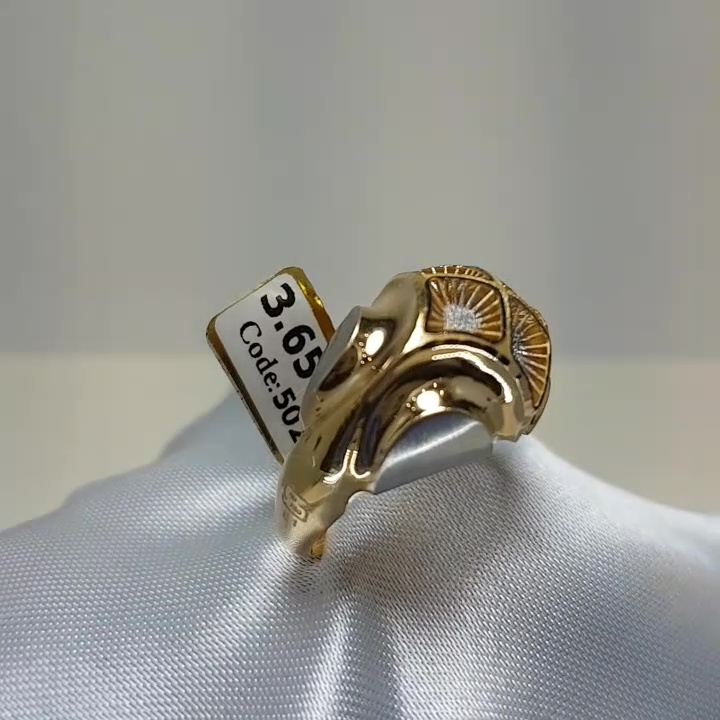Ring 2: (239, 243, 597, 591)
